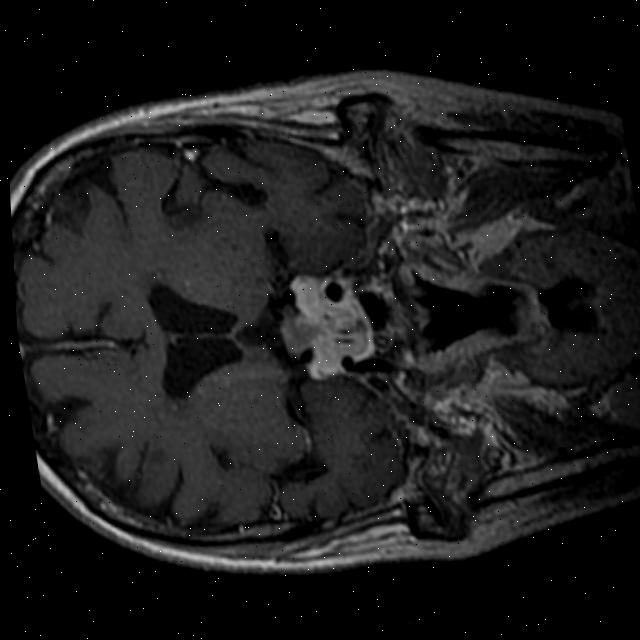Pituitary: (270, 266, 377, 386)
